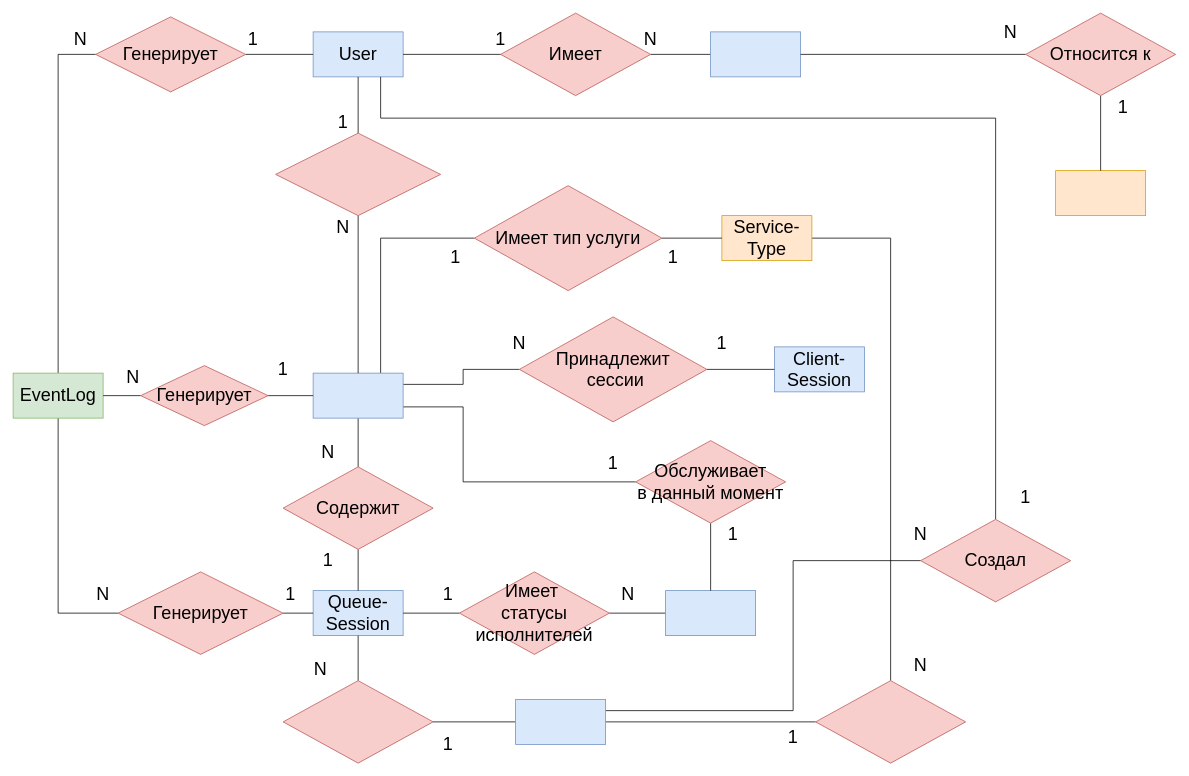
This 1189x776 diagram has some shape labels left out. The shapes that lost their labels are listed below. From the top down, each one's centre as x and y in pixels, then its label:
At point 755,54: "UserRole".
At point 358,174: "Обслуживается".
At point 1100,193: "Role".
At point 357,395: "Ticket".
At point 710,613: "Executor-State".
At point 357,721: "Имеет сессию".
At point 560,721: "Queue".
At point 890,721: "Имеет типы услуг".
